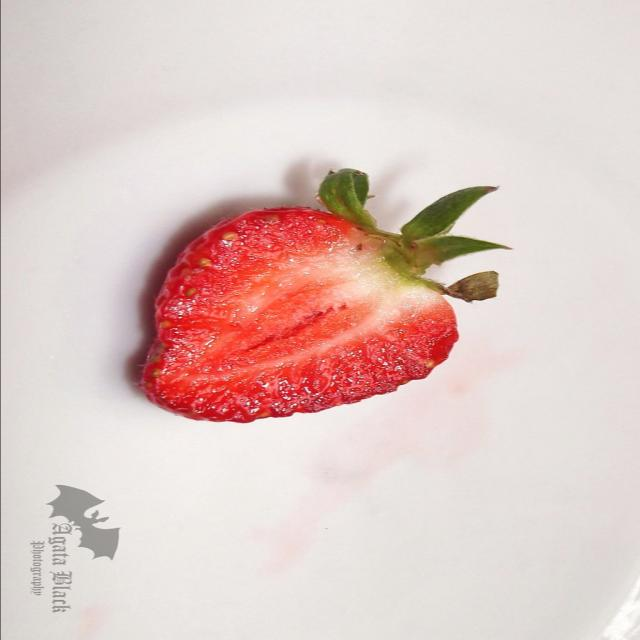strawberry: (62, 138, 541, 436)
